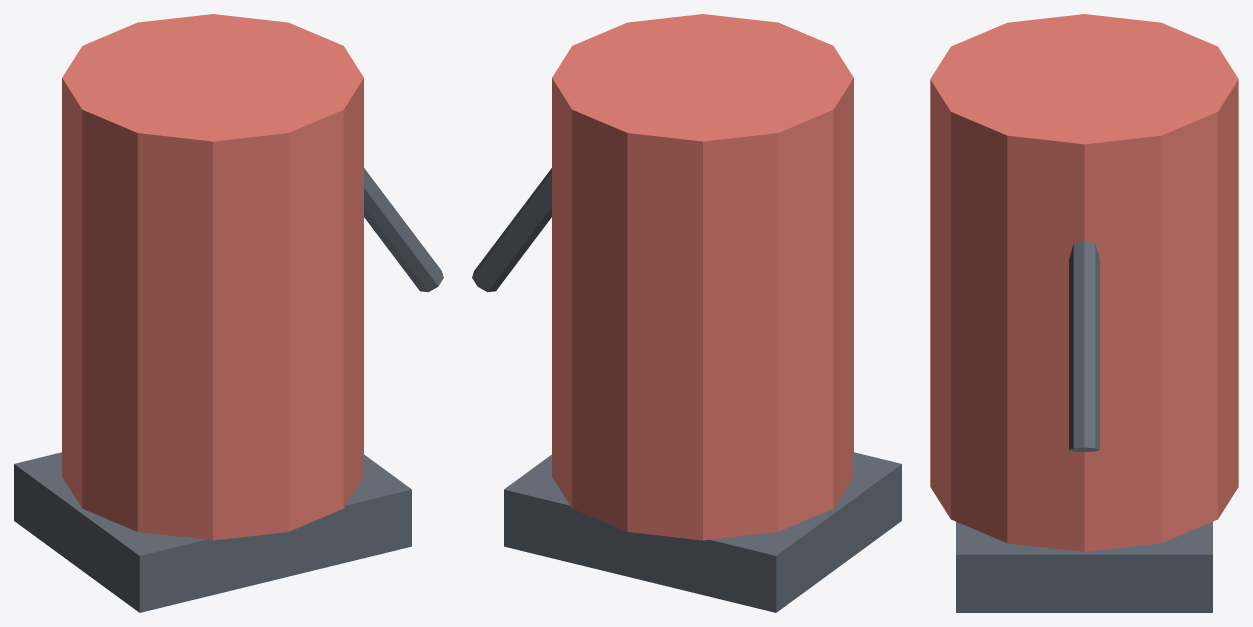
File: surtidor_jet.glb
3 renders of one model, left to right at view 1: azimuth 30°, elevation 25°; view 2: azimuth 150°, elevation 25°; view 3: azimuth 270°, elevation 25°, orthographic. The views are drawn at different scales.
Visible parts, largest first — view 1: deposito, base, manguera; view 2: deposito, base, manguera; view 3: deposito, base, manguera.
Boxes of the visible parts, <box> form: deposito: <box>62,14,363,540</box>; base: <box>14,452,411,612</box>; manguera: <box>364,168,443,292</box>; deposito: <box>552,14,853,540</box>; base: <box>504,452,901,612</box>; manguera: <box>472,168,551,292</box>; deposito: <box>930,14,1238,551</box>; base: <box>956,521,1212,612</box>; manguera: <box>1069,241,1099,452</box>.
Bounding box in the file's own units: 0.7537 × 0.9 × 0.54.
